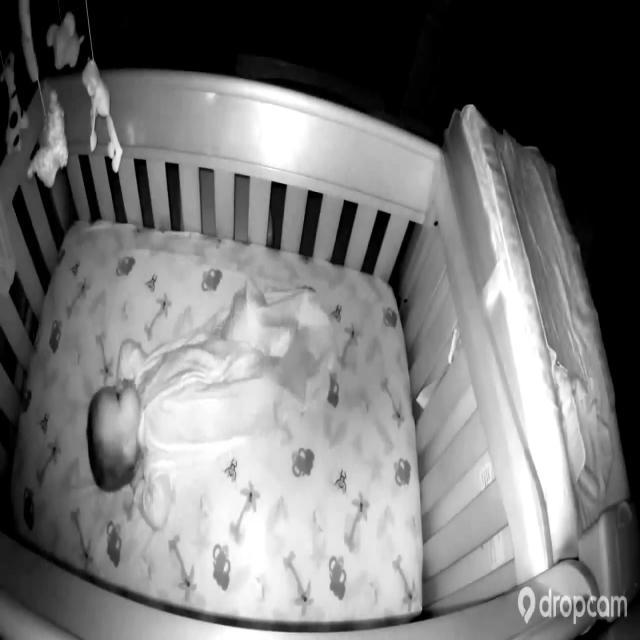baby: (84, 284, 331, 522)
